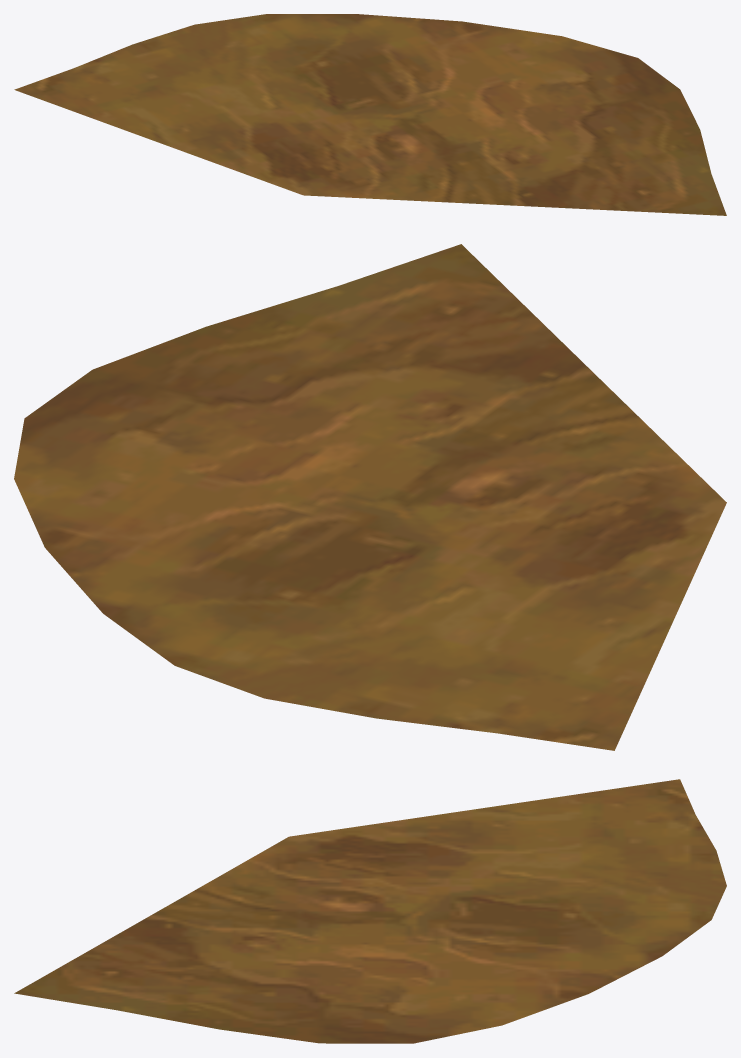
Rendered from HTOWN01_GARDEN02.fbx.
The picture shows the model from 3 angles, top to bottom: view 1: azimuth 30°, elevation 25°; view 2: azimuth 150°, elevation 25°; view 3: azimuth 270°, elevation 25°; orthographic projection. The views are drawn at different scales.
Parts seen in each view (by area): view 1: HTOWN01_GARDEN02; view 2: HTOWN01_GARDEN02; view 3: HTOWN01_GARDEN02.
Boxes of the visible parts, x1,y1,x2,y2 form: HTOWN01_GARDEN02: (14,14,726,215); HTOWN01_GARDEN02: (14,244,726,750); HTOWN01_GARDEN02: (14,779,726,1043).
Bounding box in the file's own units: 39496 × 0.00885 × 44971.
Materials: 1 (1 with a texture image).
